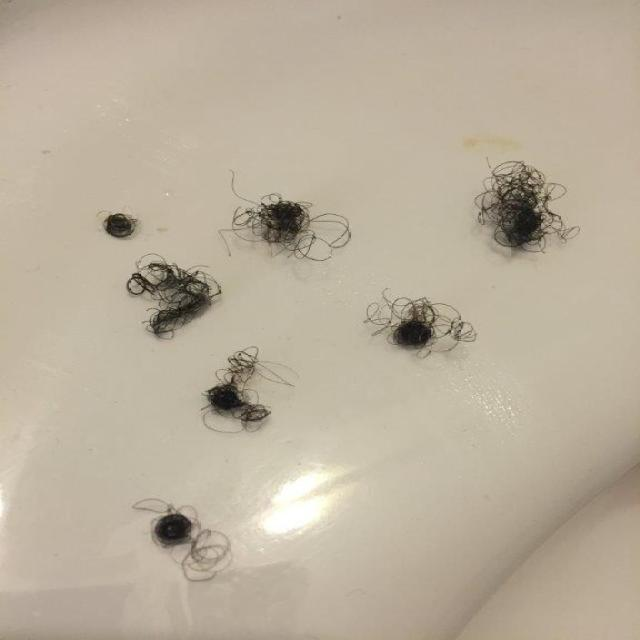hair: (211, 166, 364, 264), (458, 154, 588, 264), (124, 487, 245, 586), (342, 280, 485, 363), (196, 350, 300, 441), (127, 266, 225, 340), (98, 204, 146, 245)
